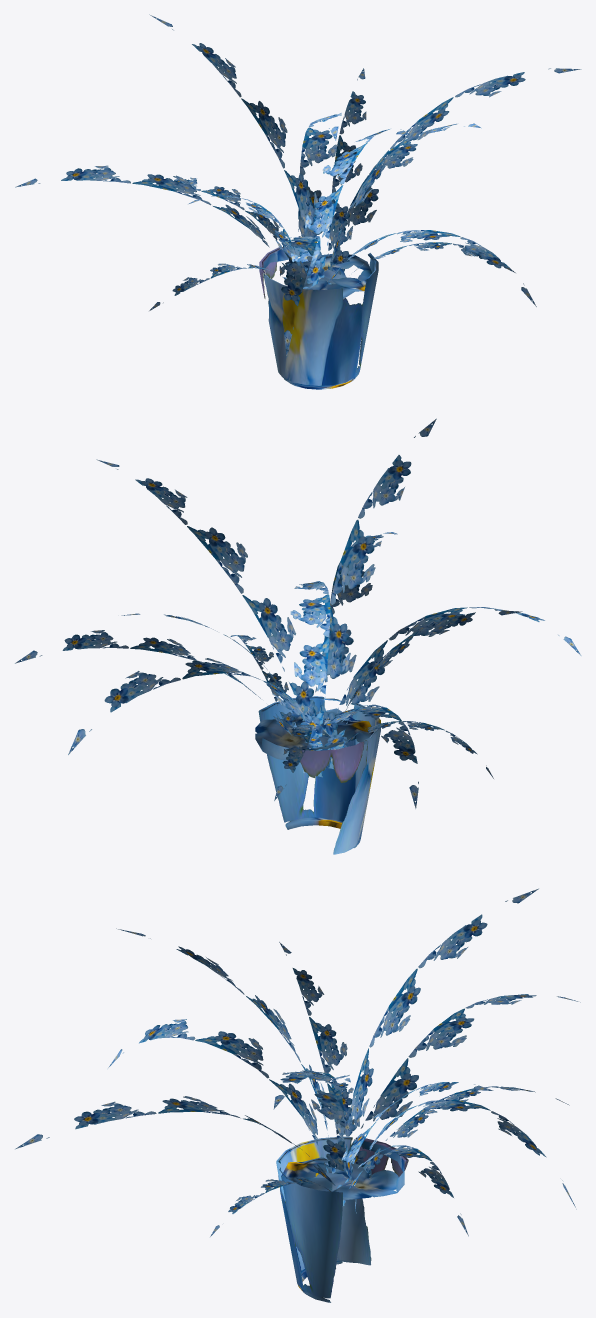
The model's file is Pointy.fbx.
The picture shows the model from 3 angles, top to bottom: view 1: azimuth 30°, elevation 25°; view 2: azimuth 150°, elevation 25°; view 3: azimuth 270°, elevation 25°; orthographic projection. The views are drawn at different scales.
Visible parts, largest first — view 1: pointy1; view 2: pointy1; view 3: pointy1.
Boxes of the visible parts, bbox=[...] form: pointy1: bbox=[15, 14, 581, 389]; pointy1: bbox=[15, 418, 581, 854]; pointy1: bbox=[15, 888, 580, 1302].
Size of the model in its own units: 217 by 152 by 221.
